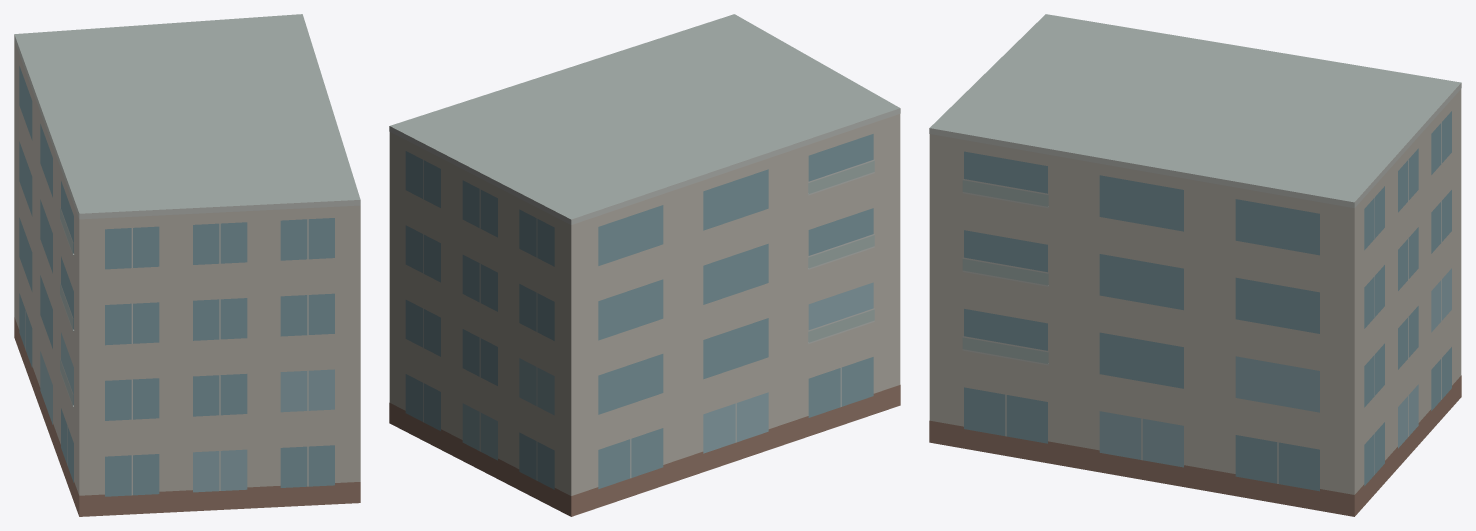
Rendered from survey-upis-32975667.glb.
3 views of the same model, side by side, from view 1: azimuth 30°, elevation 25°; view 2: azimuth 150°, elevation 25°; view 3: azimuth 270°, elevation 25° (orthographic). The views are drawn at different scales.
Parts seen in each view (by area): view 1: survey-upis-32975667.tmp; view 2: survey-upis-32975667.tmp; view 3: survey-upis-32975667.tmp.
Boxes of the visible parts, x1,y1,x2,y2 form: survey-upis-32975667.tmp: (14,14,360,516); survey-upis-32975667.tmp: (389,14,900,516); survey-upis-32975667.tmp: (929,14,1461,516).
Size of the model in its own units: 16.77 by 13.05 by 20.02.
